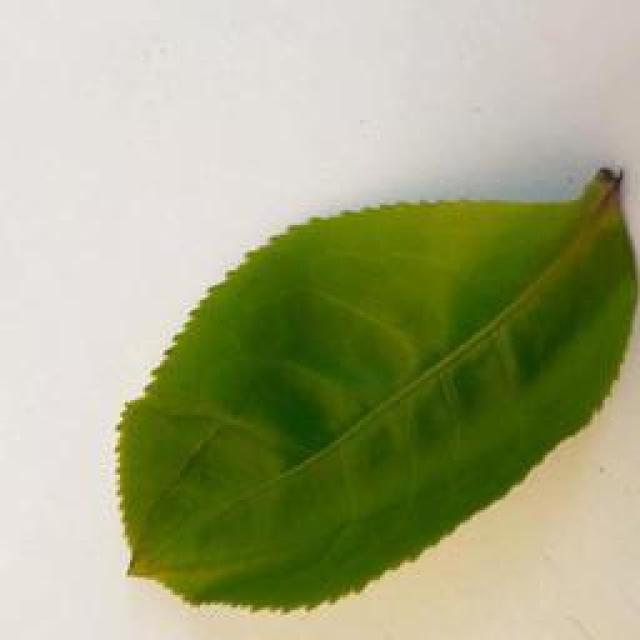Healthy: (85, 160, 640, 617)
